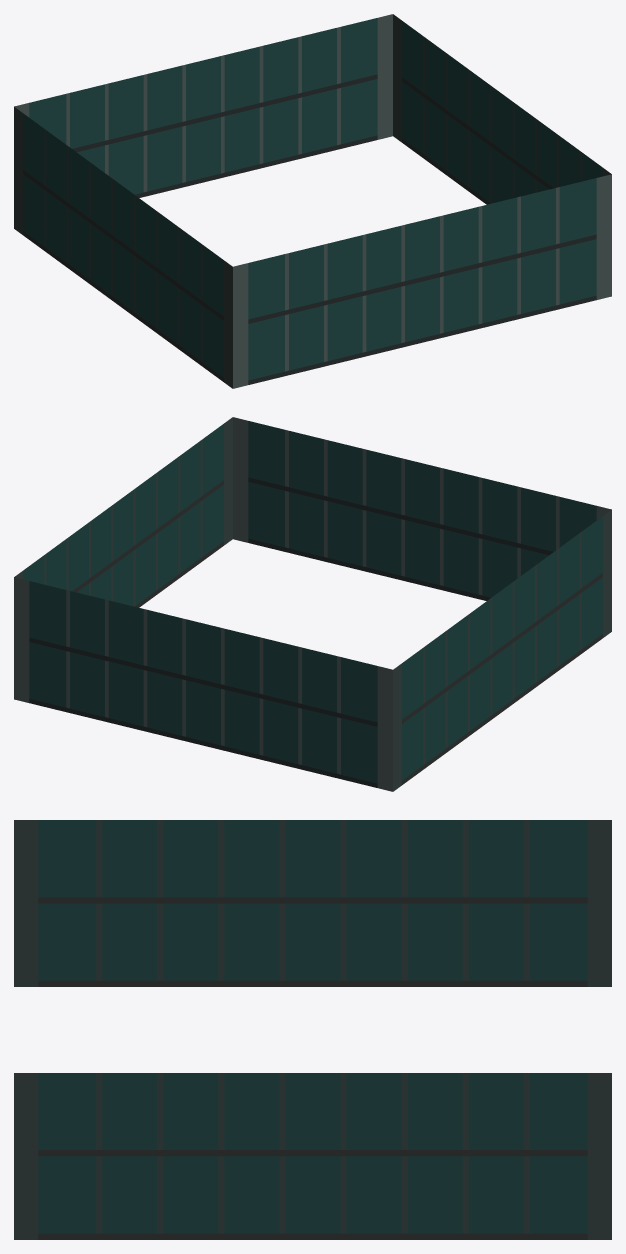
File: TB_CITY_Skysc_N_UpperBodyB_Green.FBX
3 renders of one model, top to bottom at view 1: azimuth 30°, elevation 25°; view 2: azimuth 150°, elevation 25°; view 3: azimuth 270°, elevation 25°, orthographic. The views are drawn at different scales.
Parts seen in each view (by area): view 1: TB_CITY_Skysc_N_UpperBodyB_Green; view 2: TB_CITY_Skysc_N_UpperBodyB_Green; view 3: TB_CITY_Skysc_N_UpperBodyB_Green.
Part boxes in pixels (left/top/right/bottom): TB_CITY_Skysc_N_UpperBodyB_Green: left=14, top=14, right=611, bottom=388; TB_CITY_Skysc_N_UpperBodyB_Green: left=14, top=417, right=611, bottom=791; TB_CITY_Skysc_N_UpperBodyB_Green: left=14, top=820, right=611, bottom=1239.
Bounding box in the file's own units: 14.94 × 4.6 × 14.94.
